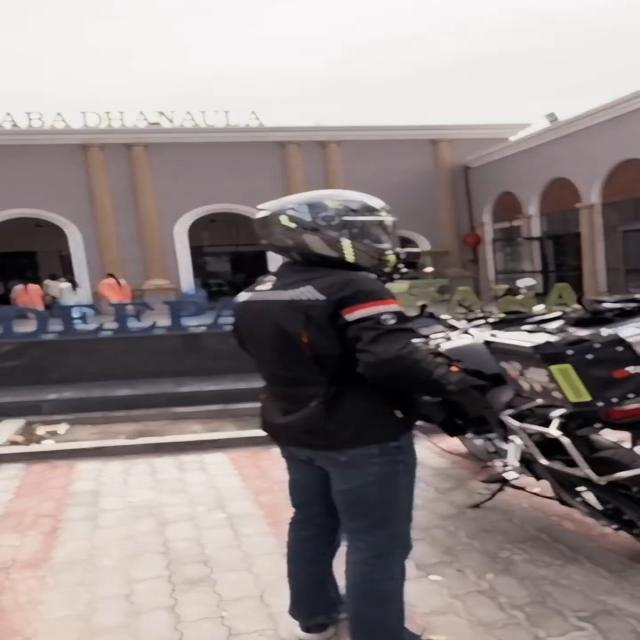Helmet_Wearer: (249, 189, 417, 272)
Jacket_Wearer: (225, 260, 479, 449)
Person: (227, 189, 483, 640)
